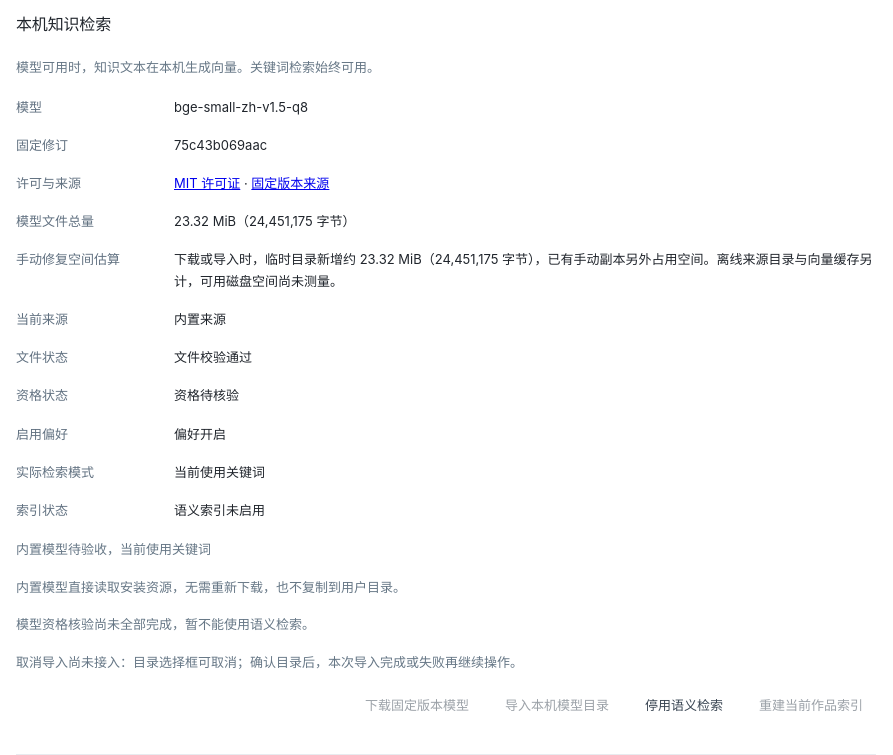
Test: 内置待验分别显示文件校验和资格，已开启偏好仍可停用
Expected: the text "内置模型待验收，当前使用关键词" is shown, [16,541,211,557]
Expected: the text "文件校验通过" is shown, [174,349,252,365]
Step 1. Click the button "停用语义检索" → point(684, 705), box [632,688,736,722]
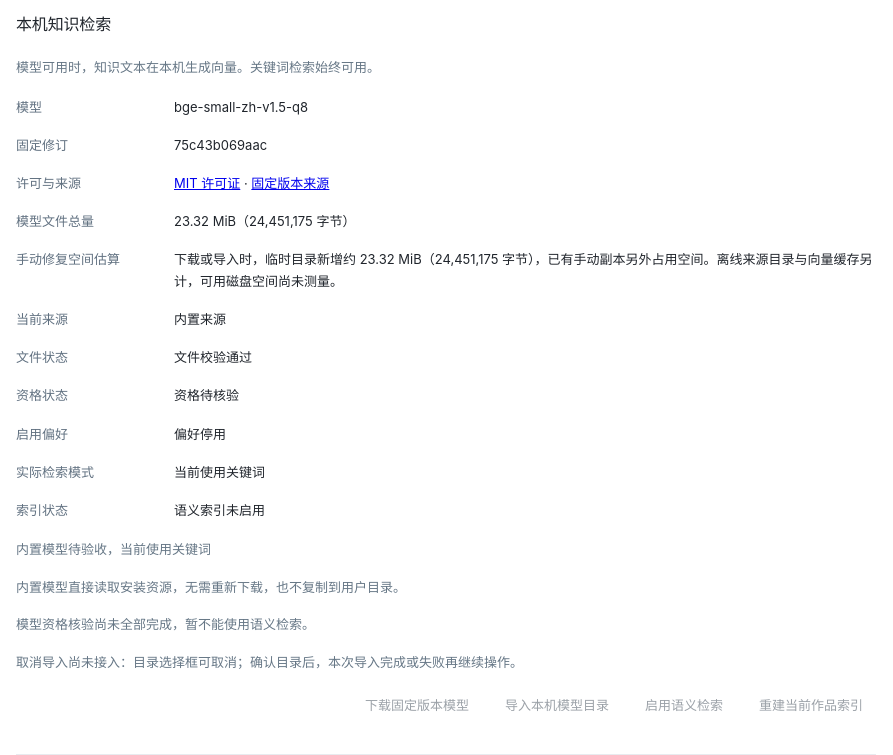
Expected: the text "偏好停用" is shown, [174,426,226,442]
Expected: the button "启用语义检索" is disabled, [632,688,736,722]
